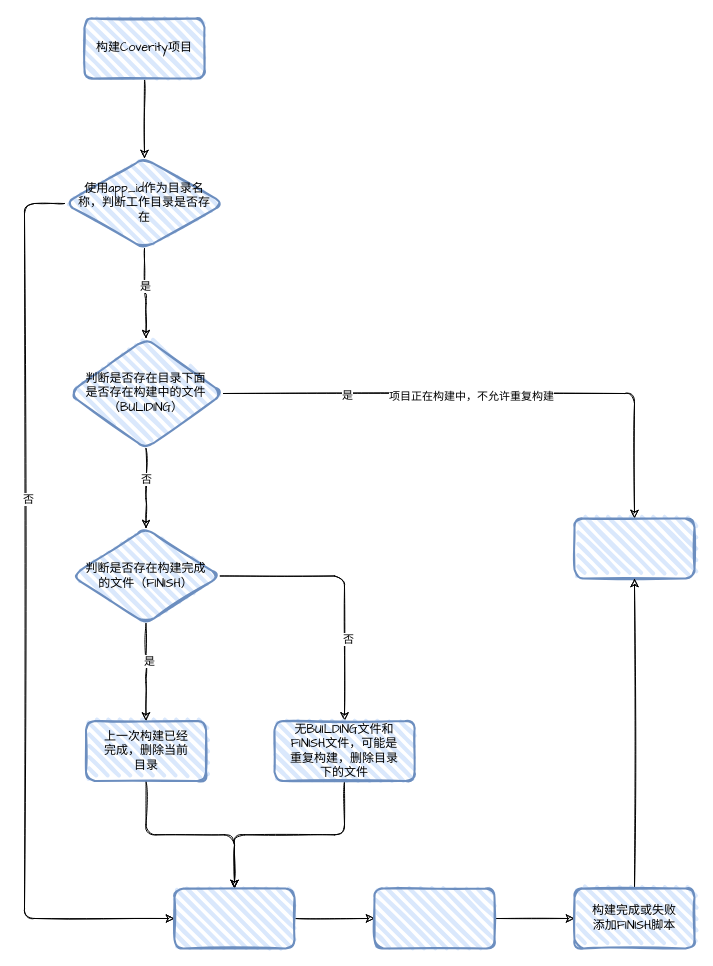
This 713x966 diagram has some shape labels left out. Here are the shapes that lost their labels. From the top down, the box of each, then its label:
(573, 517, 695, 579): return
(173, 887, 295, 949): 创建AppID目录，并创建BUILDING文件
(373, 887, 495, 949): 开始执行构建脚本
